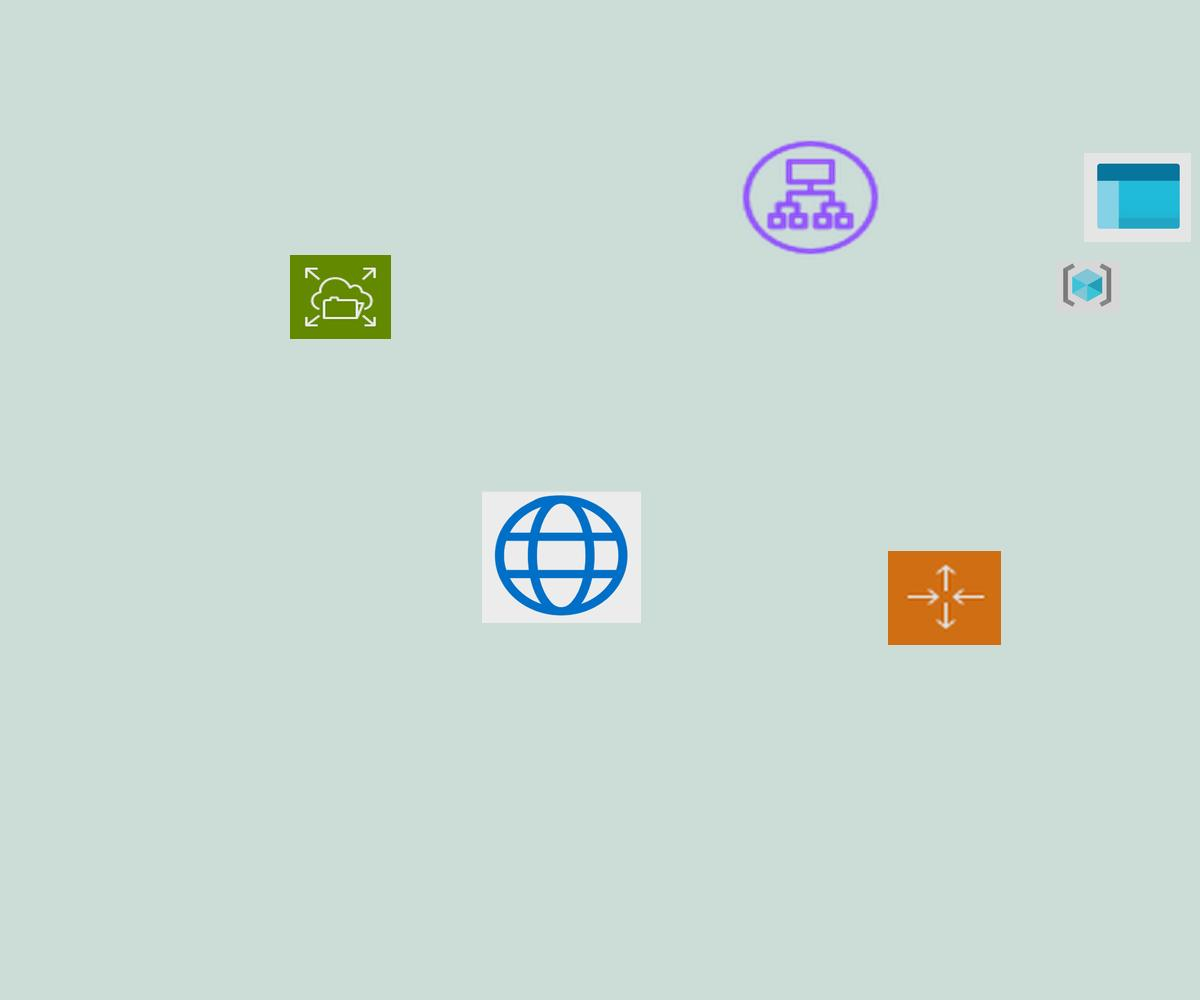AWS-EFS: (290, 255, 391, 339)
AWS-Res_Elastic-Load-Balancing_Application-Load-Balancer: (737, 136, 884, 259)
AWS-Scaling-group: (888, 551, 1001, 645)
Azure_http: (482, 491, 641, 623)
Azure_management-portal: (1084, 153, 1191, 242)
Azure_resource_group: (1057, 261, 1120, 313)
